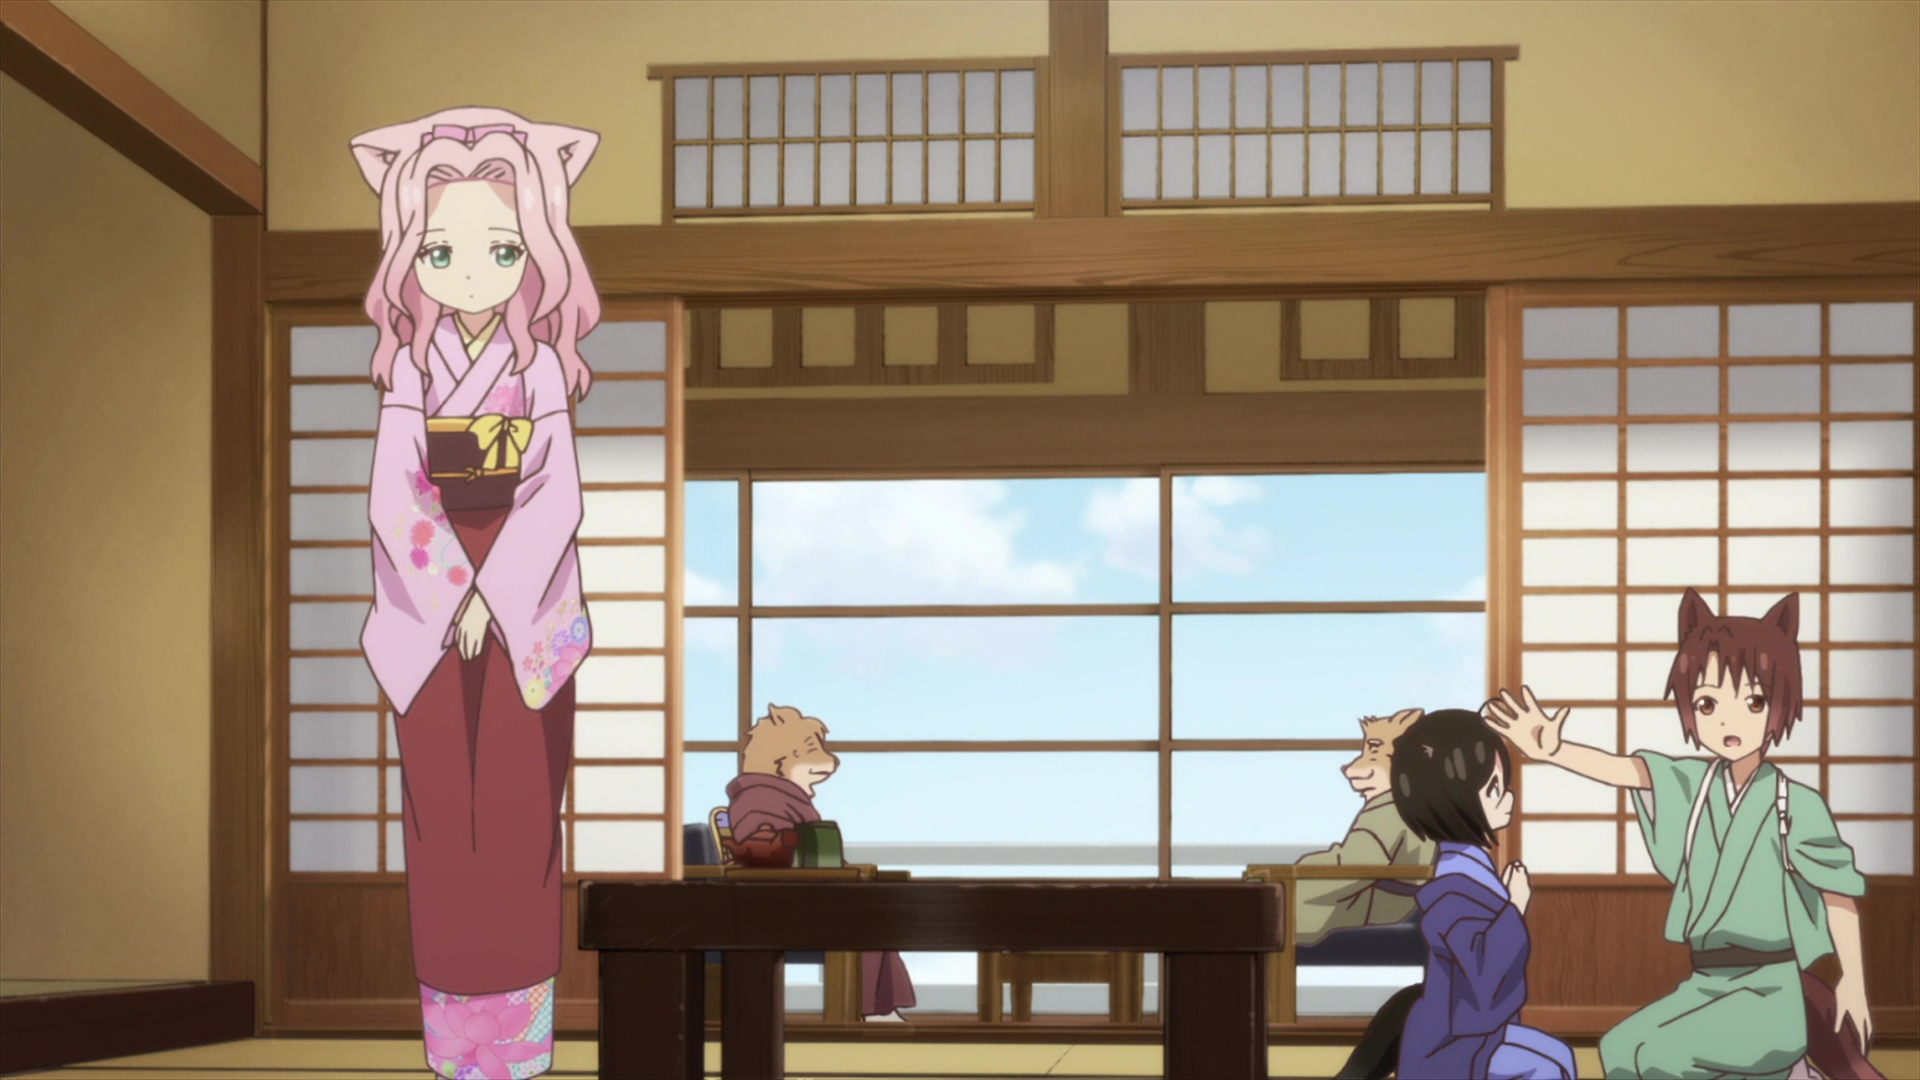其他: (1337, 709, 1575, 1080), (727, 704, 922, 1029), (1288, 705, 1437, 953)
枣: (1484, 589, 1888, 1080)
莲: (349, 108, 597, 1080)
